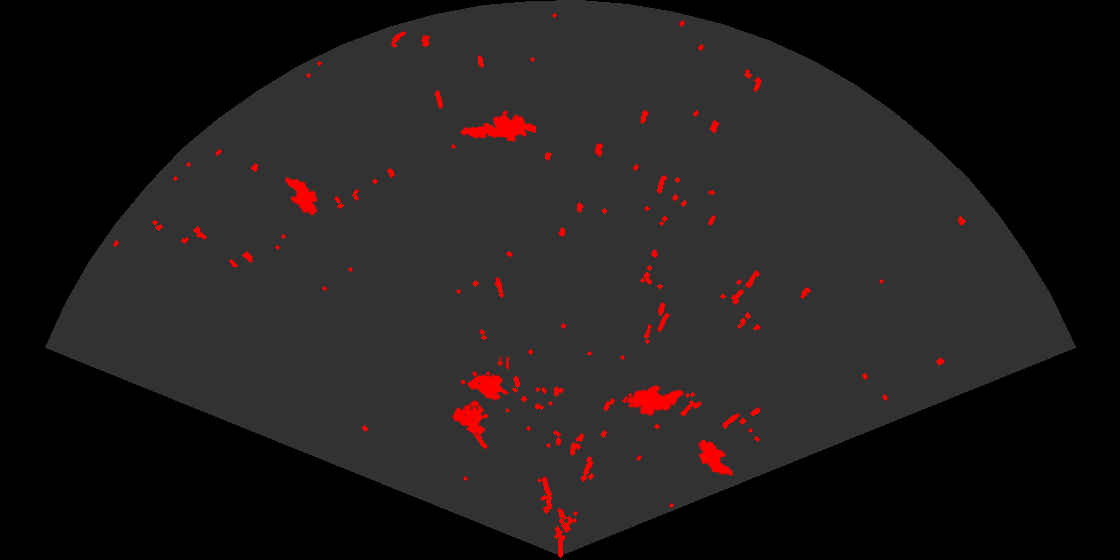AUV: (625, 383, 686, 418), (697, 438, 735, 477), (283, 176, 319, 217)
cage: (451, 357, 509, 437)
frogman: (459, 109, 536, 143)
